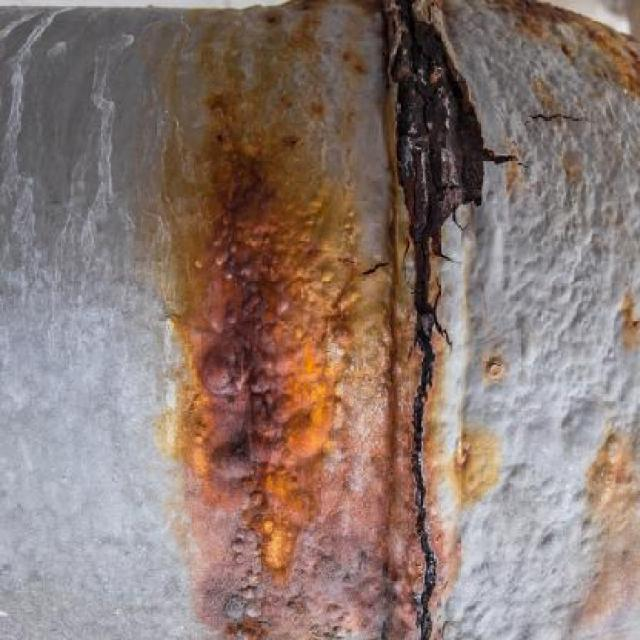Crevice Corrosion: (173, 71, 361, 639), (384, 0, 515, 639)
